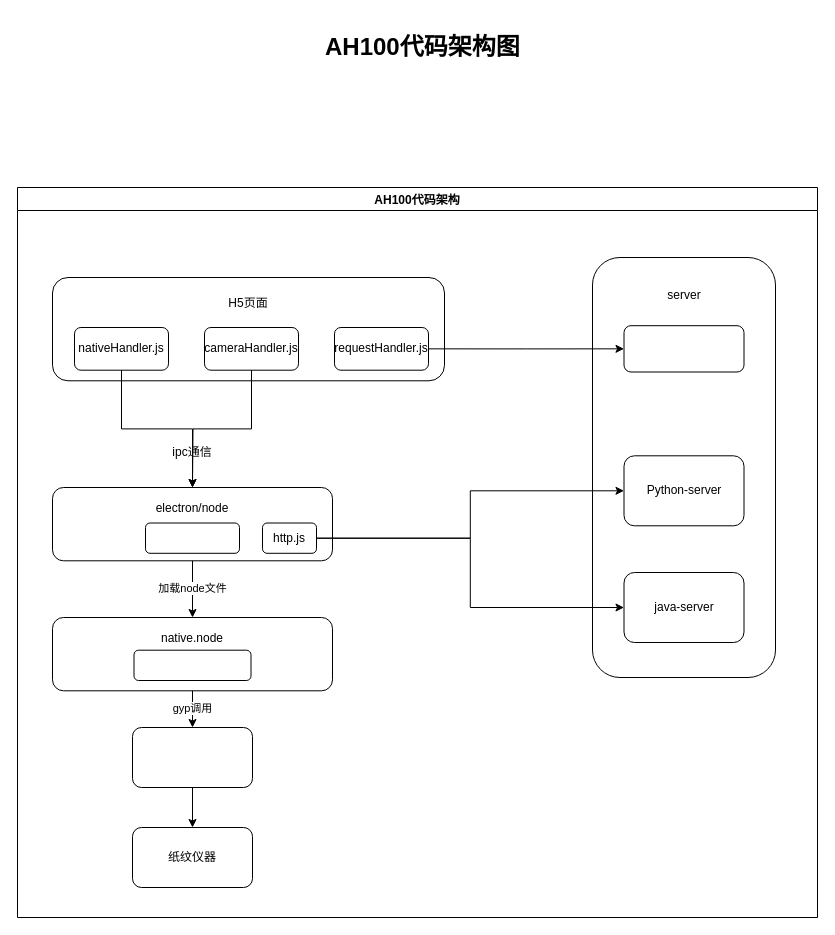
Image size: 835x935. Some labels were removed from this diagram. The centre of each missing label's shape, as x and y in pixels:
"c++ SDK" belongs at (x=192, y=757).
"C++-server" belongs at (x=683, y=348).
"cpp_node/main.cpp" belongs at (x=192, y=664).
"native/index.js" belongs at (x=192, y=537).
